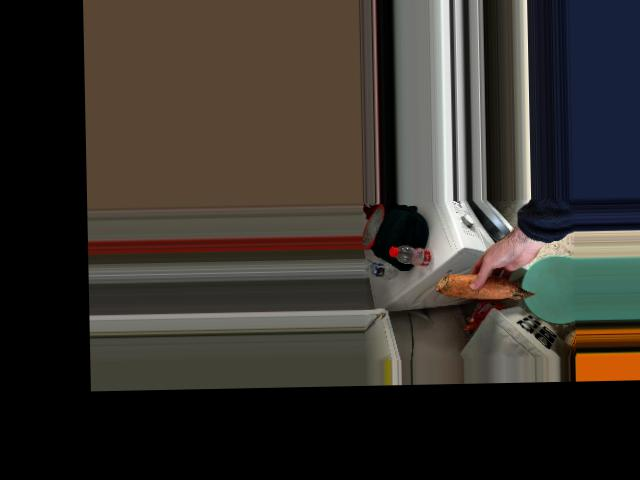sweet_potato: (444, 266, 532, 300)
